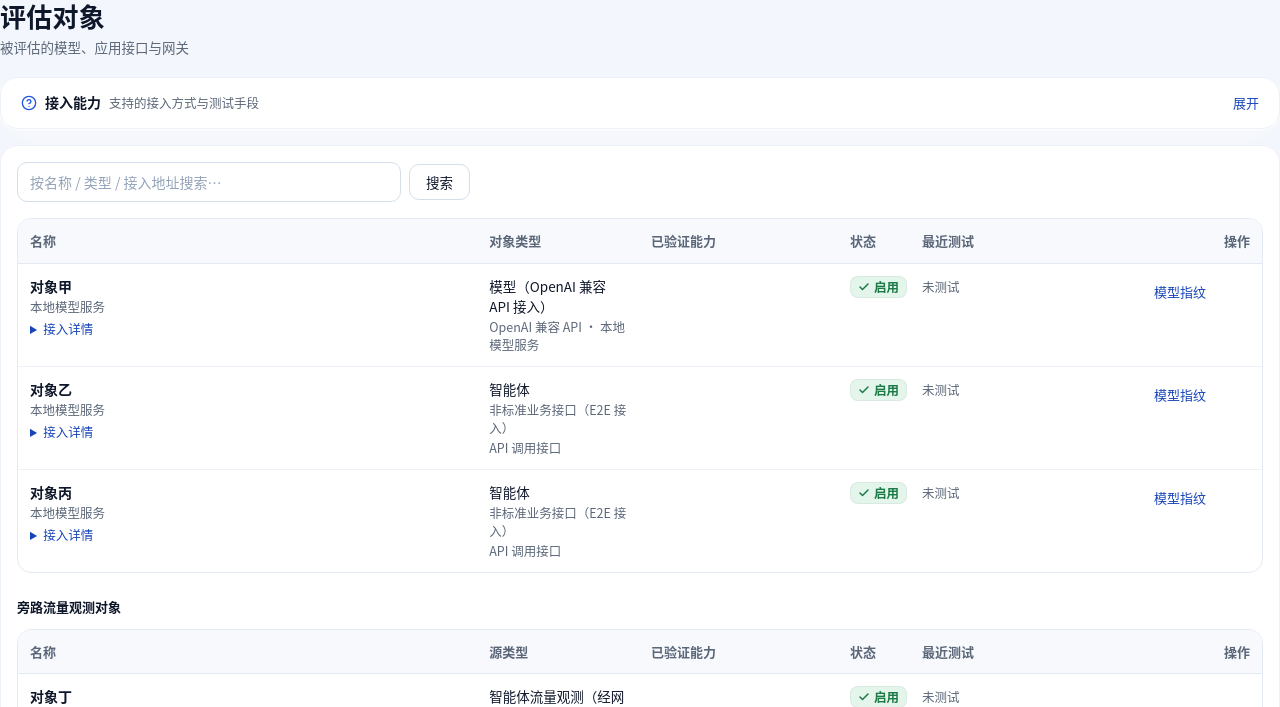
ModelTargetsPage 模型指纹入口 › 无 update 权限时弹窗只读，不显示采集按钮
The width and height of the screenshot is (1280, 707).
Click the button "模型指纹" in the row of "对象甲".
click(1180, 292)  # box left=1146, top=276, right=1214, bottom=308
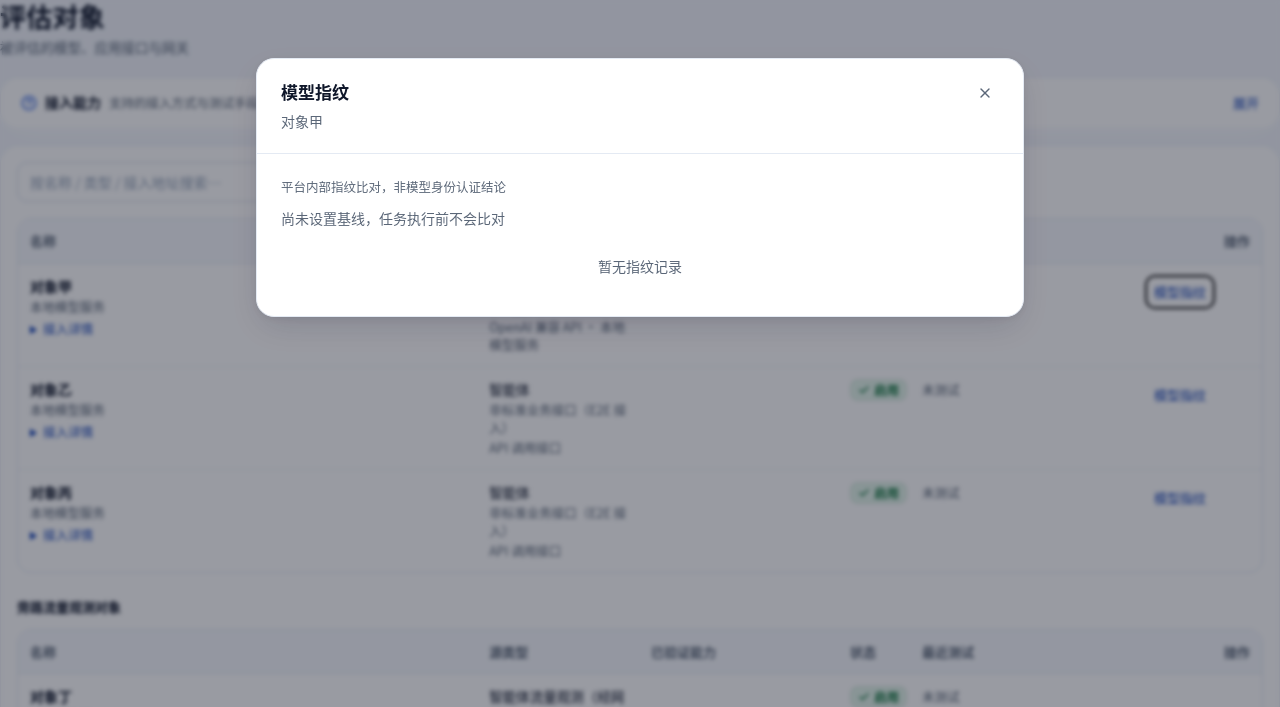
Expected: the text "平台内部指纹比对，非模型身份认证结论" is shown, left=281, top=177, right=506, bottom=196
